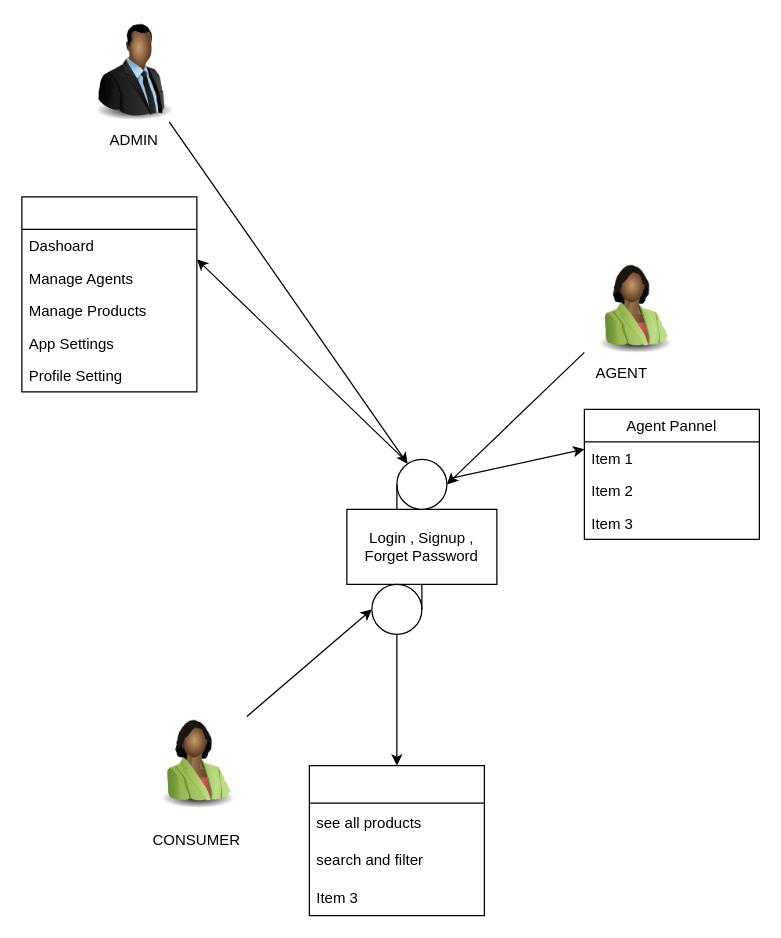
This 781x938 diagram has some shape labels left out. The box of each missing label's shape, as (x1, y1, x2, y2) in pixels:
Admin Pannel: (21, 196, 197, 392)
App Screen: (308, 764, 484, 916)
